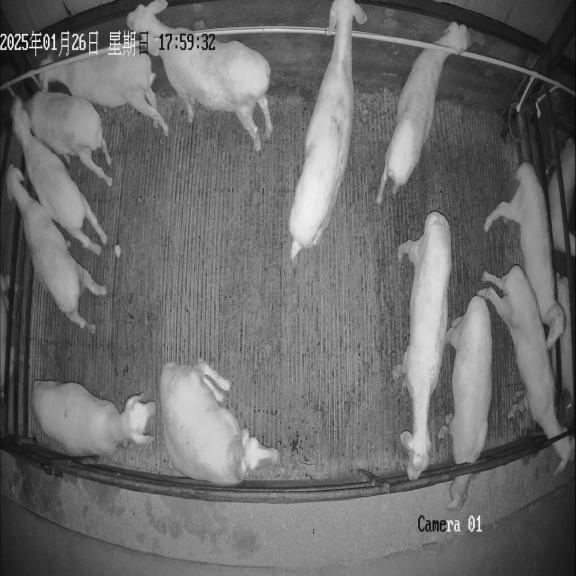drinking: (22, 90, 112, 186)
eating: (439, 295, 492, 510)
lying: (160, 360, 279, 484), (31, 381, 156, 455)
stand: (127, 0, 273, 152), (289, 0, 367, 264), (478, 265, 574, 475), (376, 21, 470, 203), (7, 165, 106, 332), (394, 211, 451, 479), (11, 97, 107, 254), (484, 163, 565, 348), (32, 45, 169, 135)
